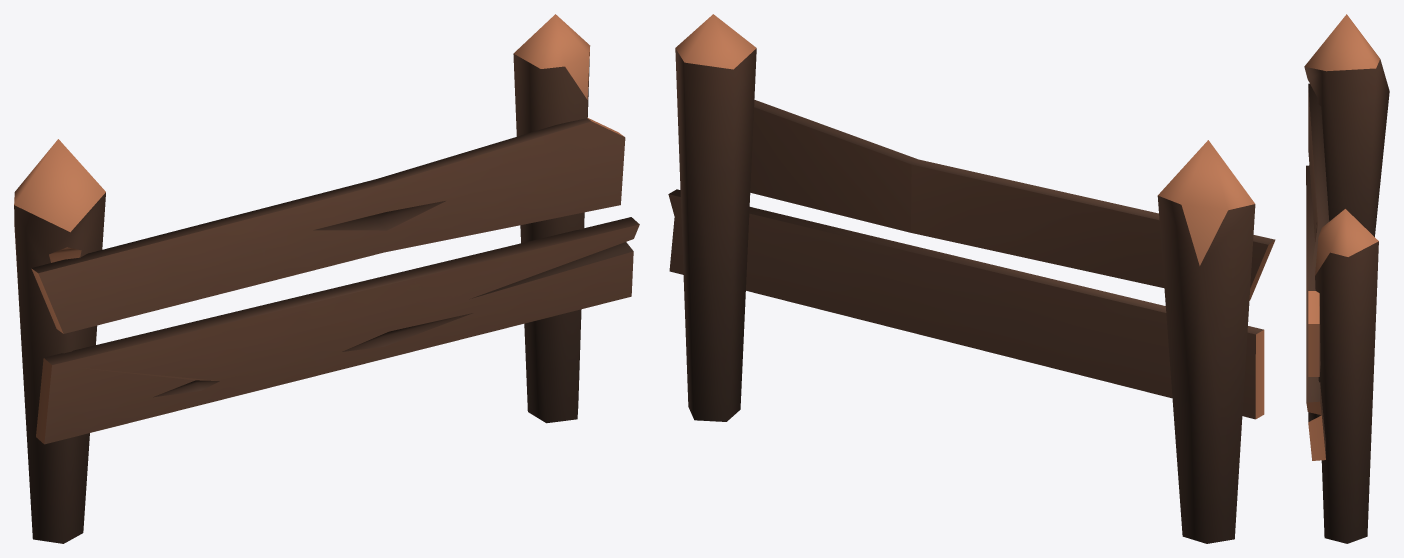
The model's file is Fence_1A.FBX.
3 views of the same model, side by side, from view 1: azimuth 30°, elevation 25°; view 2: azimuth 150°, elevation 25°; view 3: azimuth 270°, elevation 25° (orthographic). The views are drawn at different scales.
Parts seen in each view (by area): view 1: Fence_1A; view 2: Fence_1A; view 3: Fence_1A.
Part boxes in pixels (bbox=[...]): Fence_1A: bbox=[14, 14, 639, 543]; Fence_1A: bbox=[668, 14, 1275, 543]; Fence_1A: bbox=[1304, 14, 1389, 543].
Bounding box in the file's own units: 202 × 128 × 30.39.
